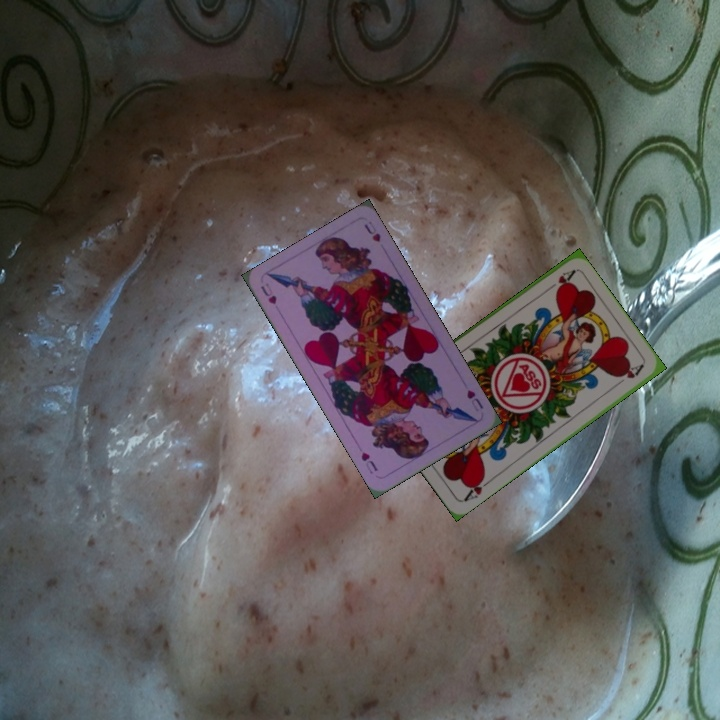HA: (459, 472, 495, 504), (540, 266, 577, 294)
HU: (463, 386, 486, 414), (257, 282, 279, 307)
